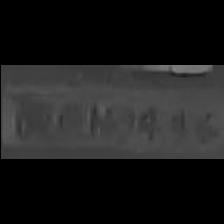4: (130, 98, 160, 144)
N: (78, 97, 112, 139)
